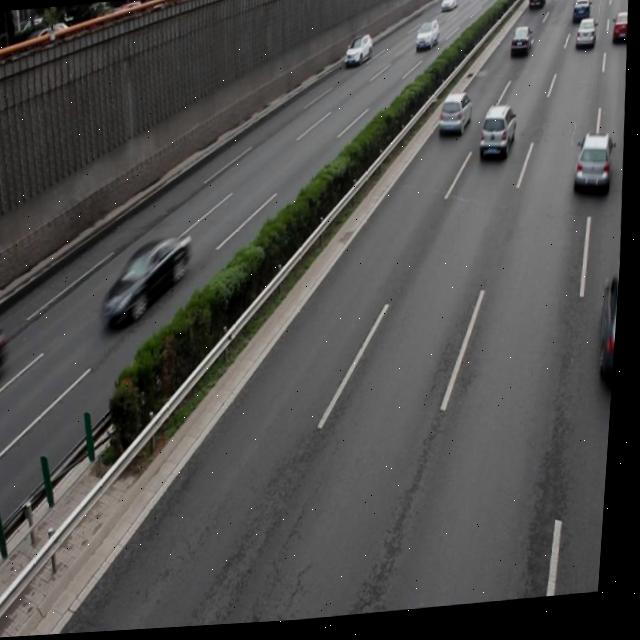car: (99, 235, 197, 332), (572, 135, 616, 204), (597, 280, 624, 388), (478, 108, 519, 167), (437, 95, 473, 141)
